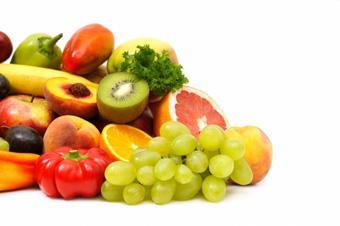apple: (1, 93, 52, 134)
